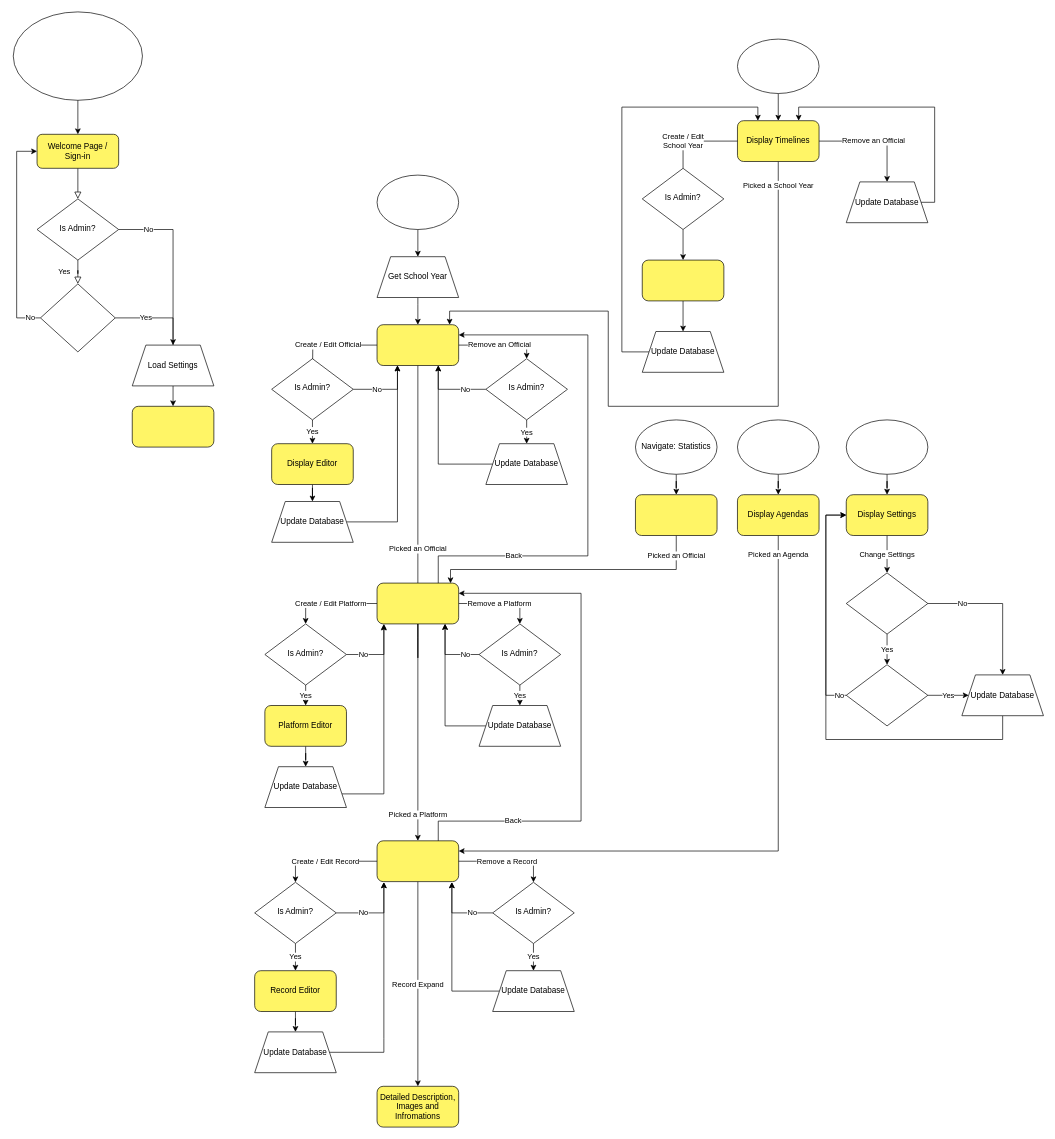
The diagram is 1055 pixels wide and 1139 high, and some of its shapes have lost their labels. The centre of each missing label's shape, as x and y in pixels:
"Dashboard with Navigation" goes at (173,426).
"Display Official Information and Projects" goes at (417,603).
"Display Officials" goes at (417,345).
"Display Statistics" goes at (676,515).
"Information about Progress and Expenses" goes at (417,861).
"Is Admn?" goes at (887,695).
"is Password Corrent" goes at (77,317).
"Navigate: Agendas" goes at (778,446).
"Navigate: List of Officials" goes at (417,202).
"Navigate: Settings" goes at (887,446).
"Navigate: Timeline" goes at (778,66).
"Requires Admin?" goes at (887,603).
"SPEND System (SSG Projects Expense and Notation Database)" goes at (77,55).
"Year Editor" goes at (683,280).
